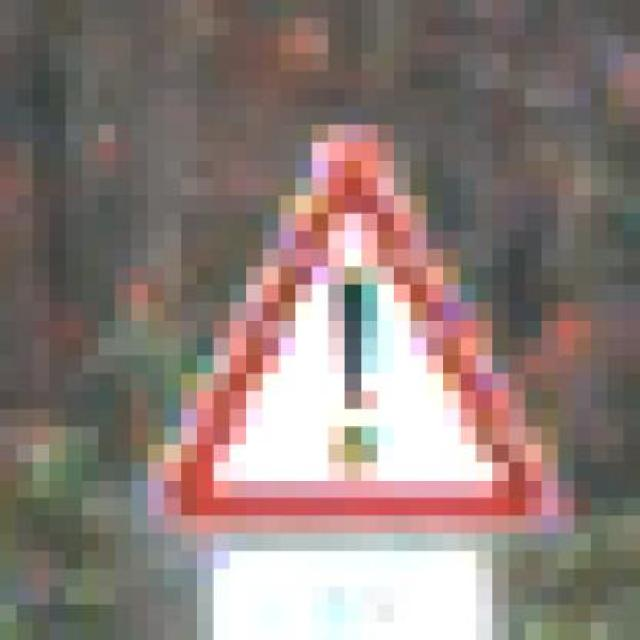Attention Please-: (98, 107, 574, 551)
